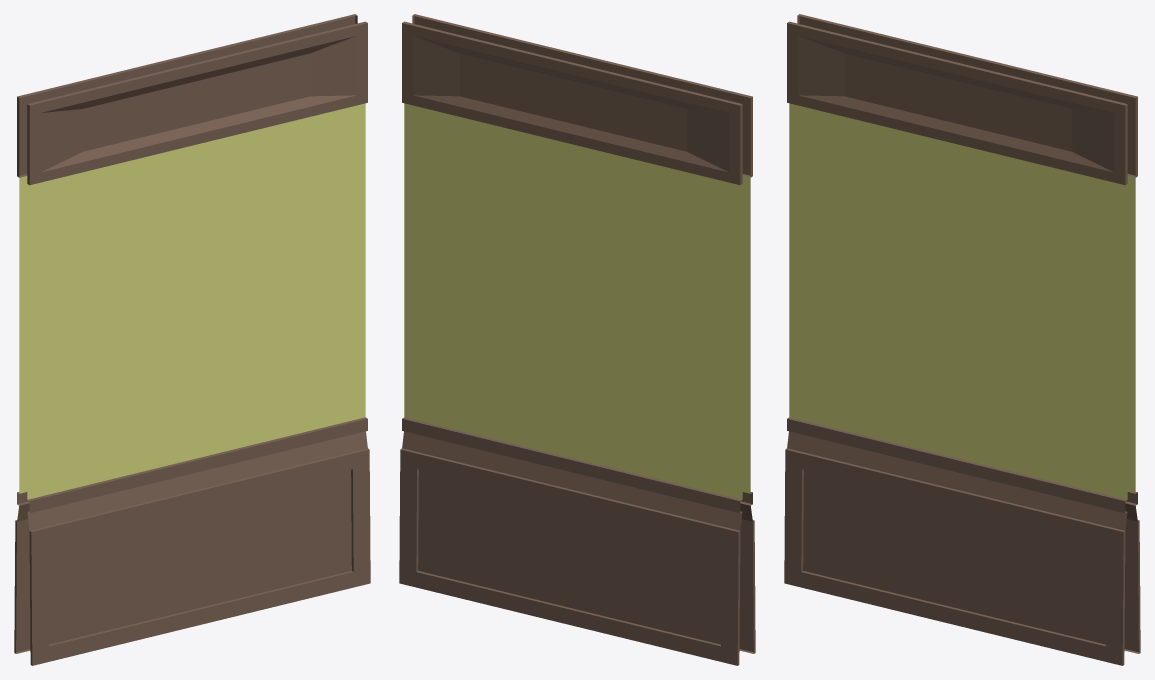
Rendered from DoubleWall.fbx.
The picture shows the model from 3 angles, left to right: view 1: azimuth 30°, elevation 25°; view 2: azimuth 150°, elevation 25°; view 3: azimuth 330°, elevation 25°; orthographic projection.
Parts seen in each view (by area): view 1: DoorFrame.002; view 2: DoorFrame.002; view 3: DoorFrame.002.
Part boxes in pixels (x1,y1,x2,y2): DoorFrame.002: (14, 14, 370, 665); DoorFrame.002: (399, 14, 755, 665); DoorFrame.002: (784, 14, 1140, 665).
Size of the model in its own units: 371 by 585 by 34.21.
